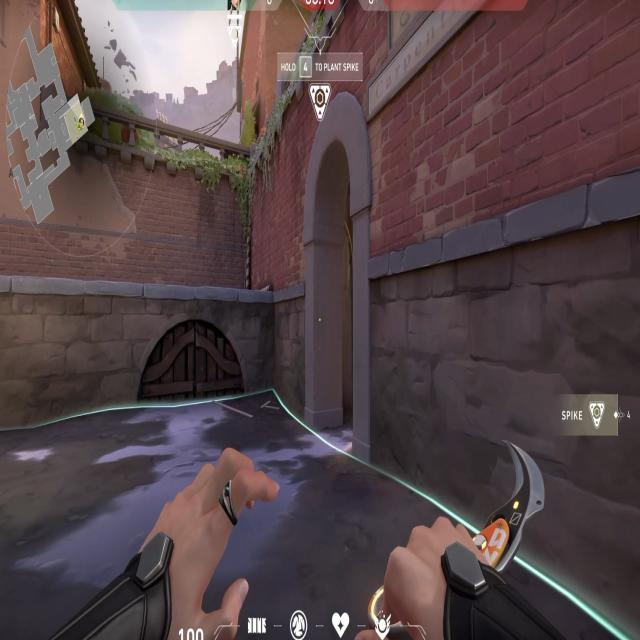B_Boathouse: (290, 69, 393, 469)
